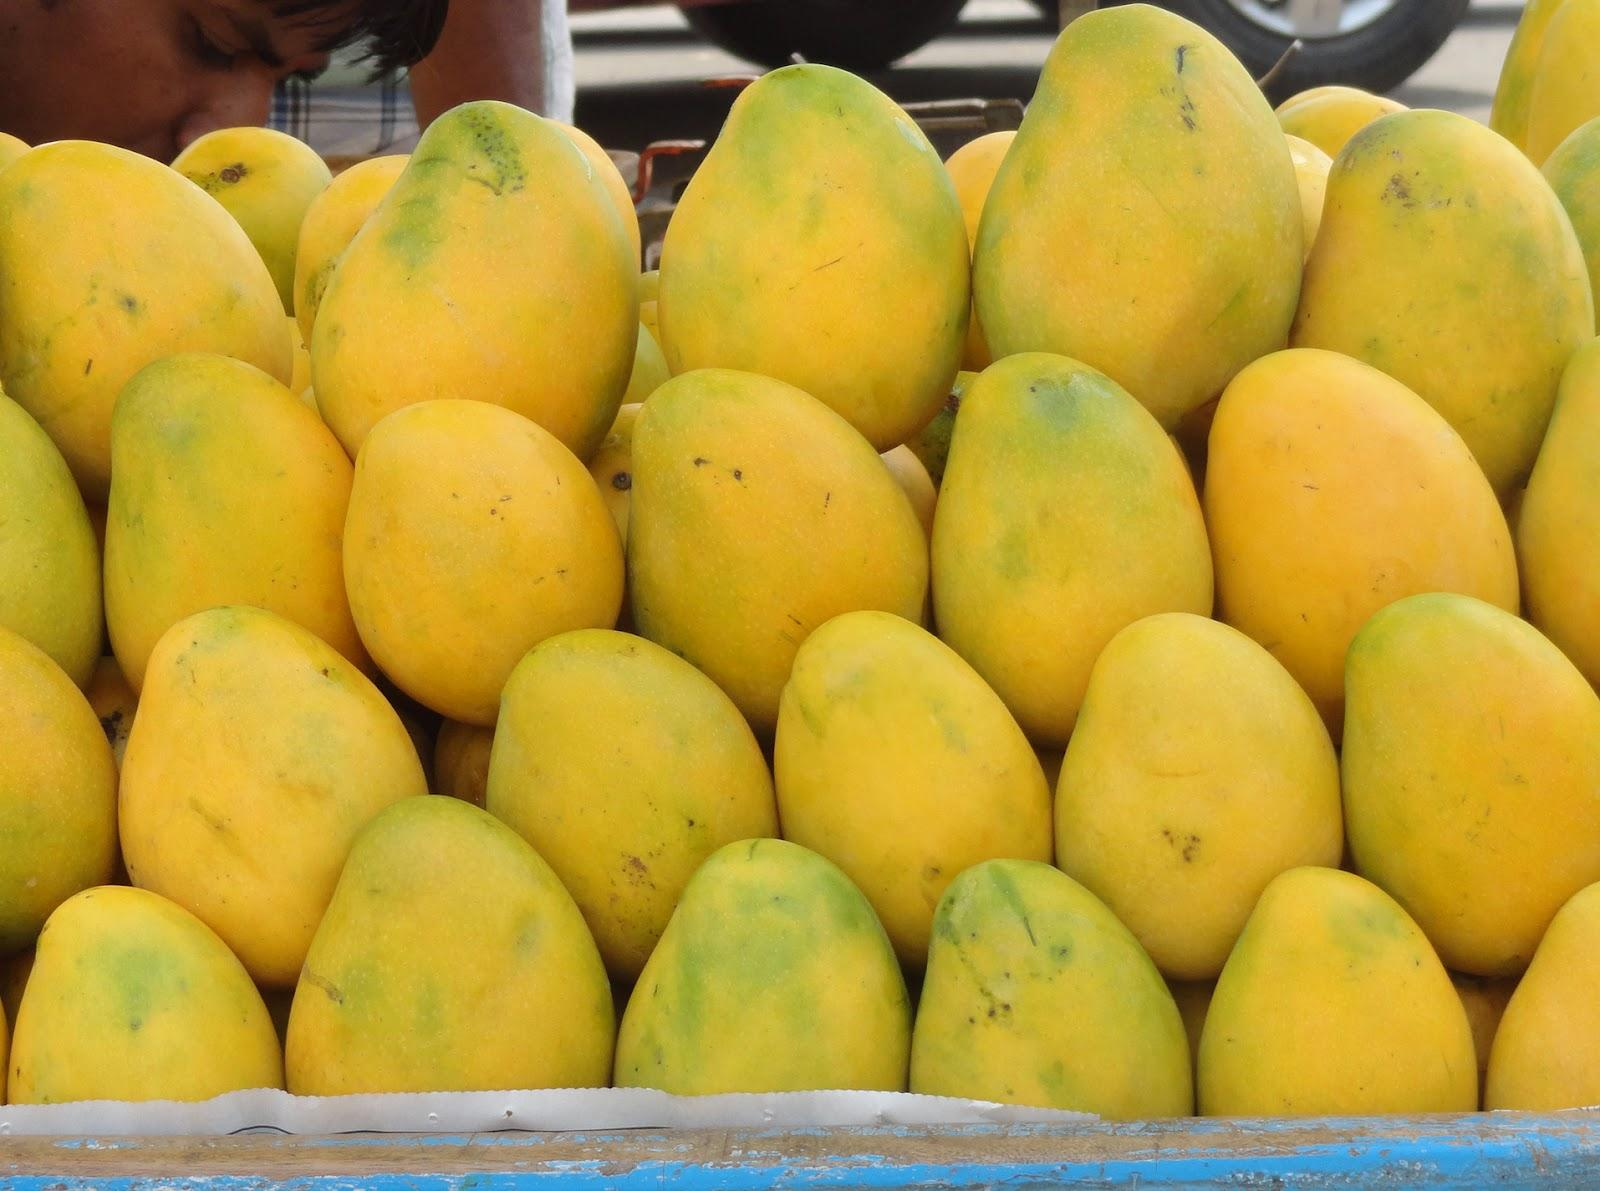mango: (651, 48, 976, 430), (980, 18, 1292, 415), (300, 94, 656, 428), (266, 784, 620, 1087), (1057, 604, 1357, 953), (1334, 580, 1600, 956), (919, 344, 1213, 677), (1327, 110, 1600, 465), (106, 577, 405, 901), (490, 607, 768, 946), (617, 364, 931, 663), (763, 594, 1066, 903), (1200, 338, 1535, 616), (907, 851, 1205, 1122), (613, 827, 914, 1092), (1197, 844, 1485, 1122), (114, 358, 352, 634), (16, 884, 290, 1111)
